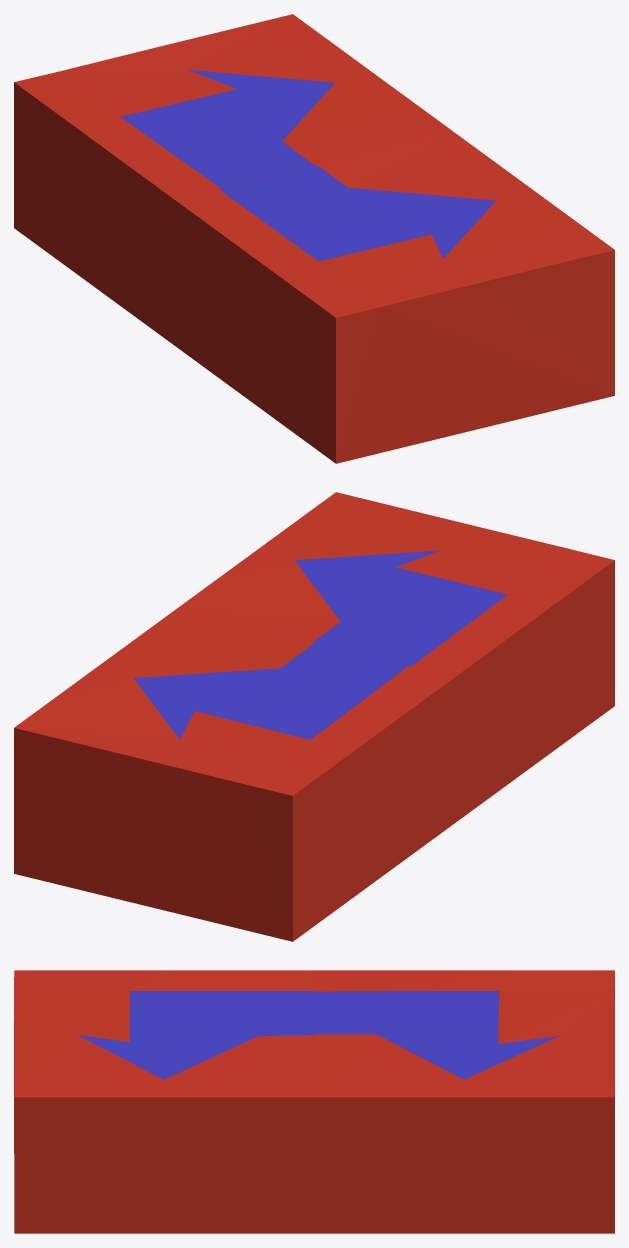
The model's file is split.dae.
3 views of the same model, one above another, from view 1: azimuth 30°, elevation 25°; view 2: azimuth 150°, elevation 25°; view 3: azimuth 270°, elevation 25° (orthographic). The views are drawn at different scales.
Visible parts, largest first — view 1: Cube, Cube_001; view 2: Cube_001, Cube; view 3: Cube, Cube_001.
Boxes of the visible parts, x1=… form: Cube: x1=175, y1=132, x2=614, y2=463; Cube_001: x1=14, y1=14, x2=453, y2=345; Cube_001: x1=14, y1=610, x2=453, y2=941; Cube: x1=175, y1=492, x2=614, y2=823; Cube: x1=14, y1=970, x2=314, y2=1233; Cube_001: x1=314, y1=970, x2=614, y2=1233.
Size of the model in its own units: 1 by 2 by 0.5.
